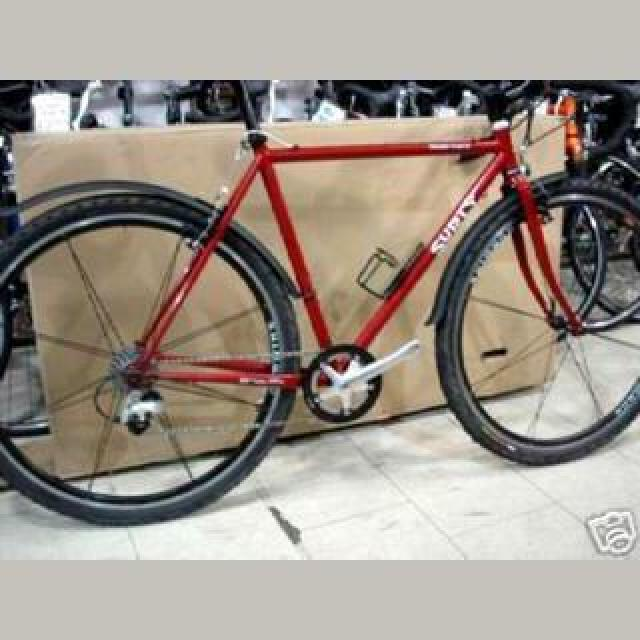Person: (4, 86, 638, 536)
